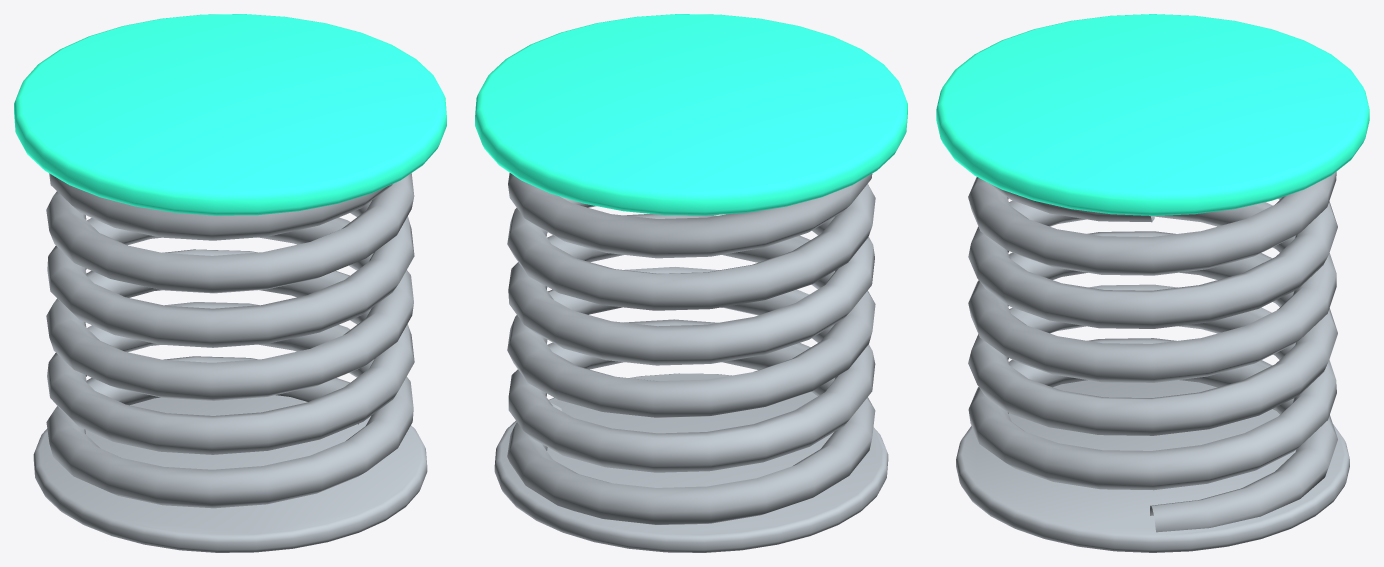
File: spring.glb
The picture shows the model from 3 angles, left to right: view 1: azimuth 30°, elevation 25°; view 2: azimuth 150°, elevation 25°; view 3: azimuth 270°, elevation 25°; orthographic projection.
Parts seen in each view (by area): view 1: spring; view 2: spring; view 3: spring.
Part boxes in pixels (left/top/right/bottom): spring: left=14, top=14, right=446, bottom=552; spring: left=475, top=14, right=907, bottom=552; spring: left=936, top=14, right=1369, bottom=552.
Size of the model in its own units: 1.1 by 1.03 by 1.1.
